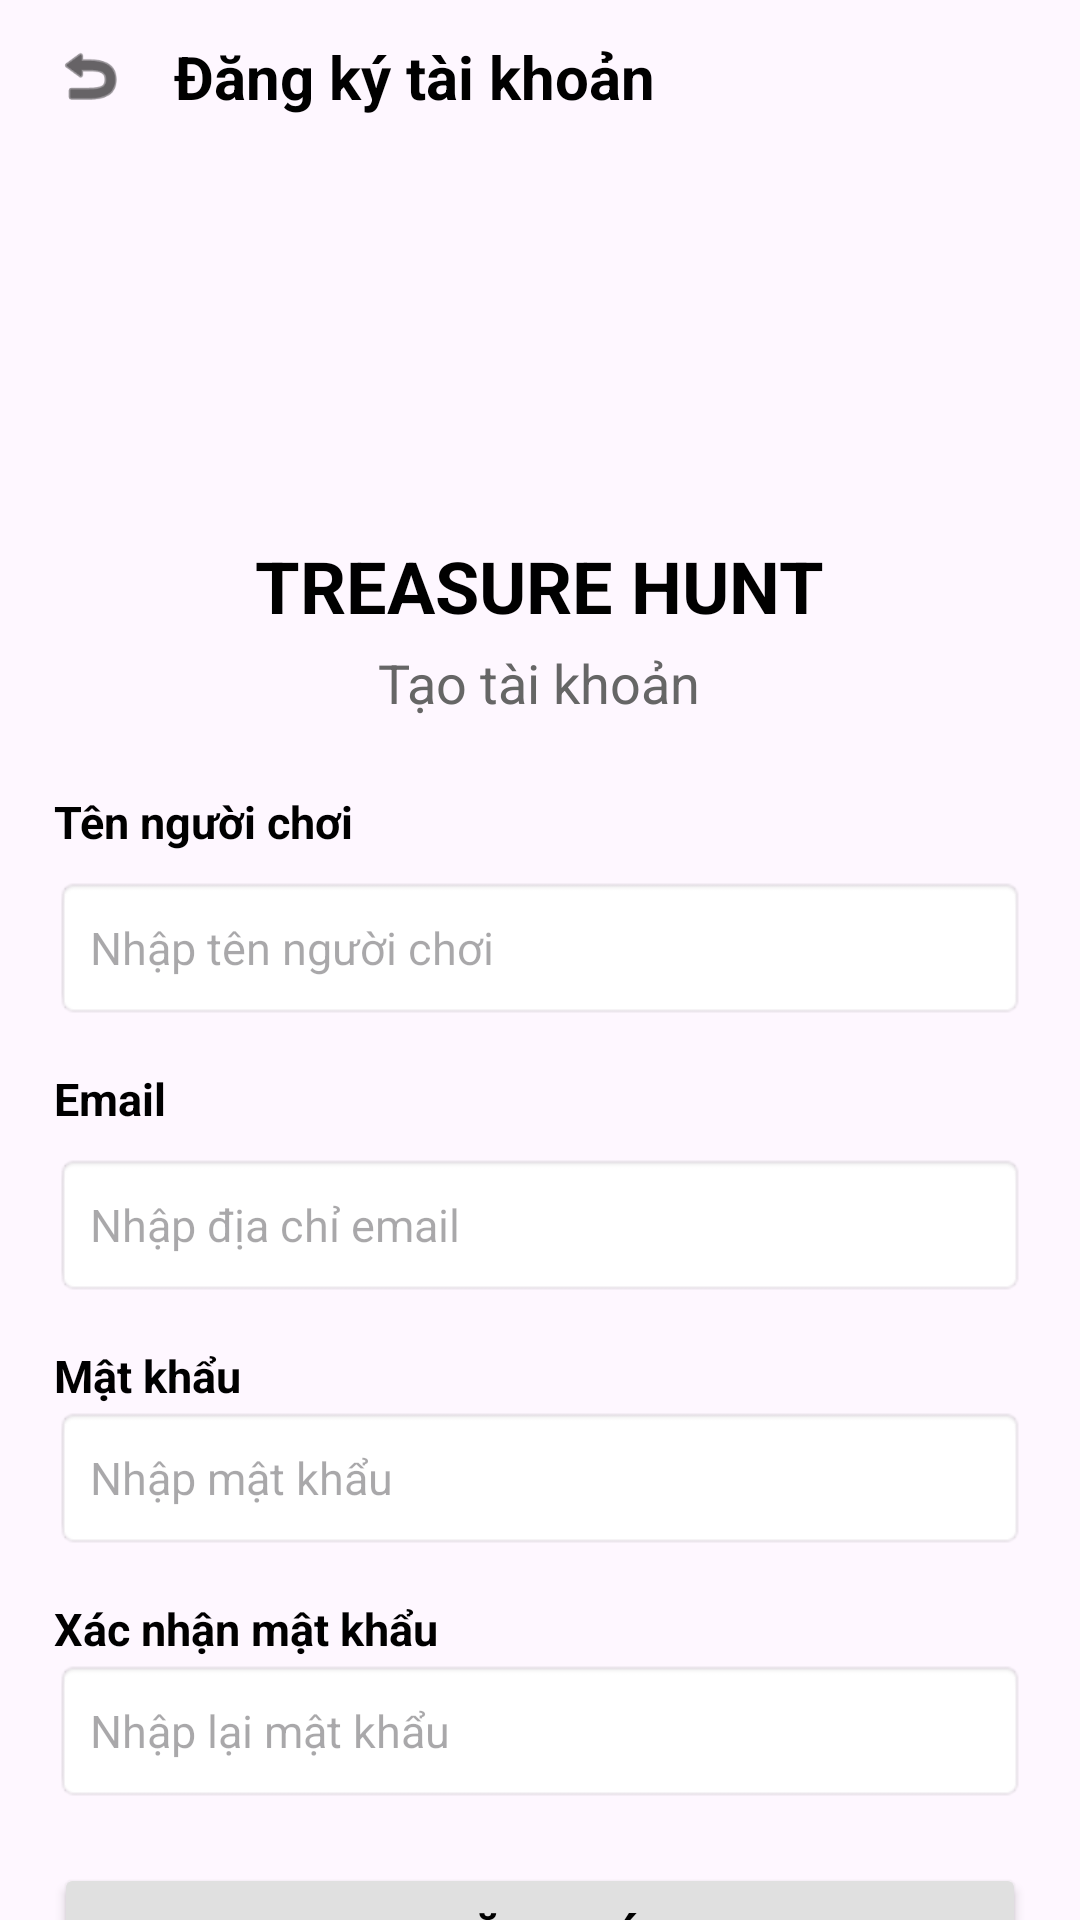

Icons on this 1080 × 1920 Android screen, each with its box as (x1, y1, x2, y2):
Quay lại: (65, 53, 117, 100)
